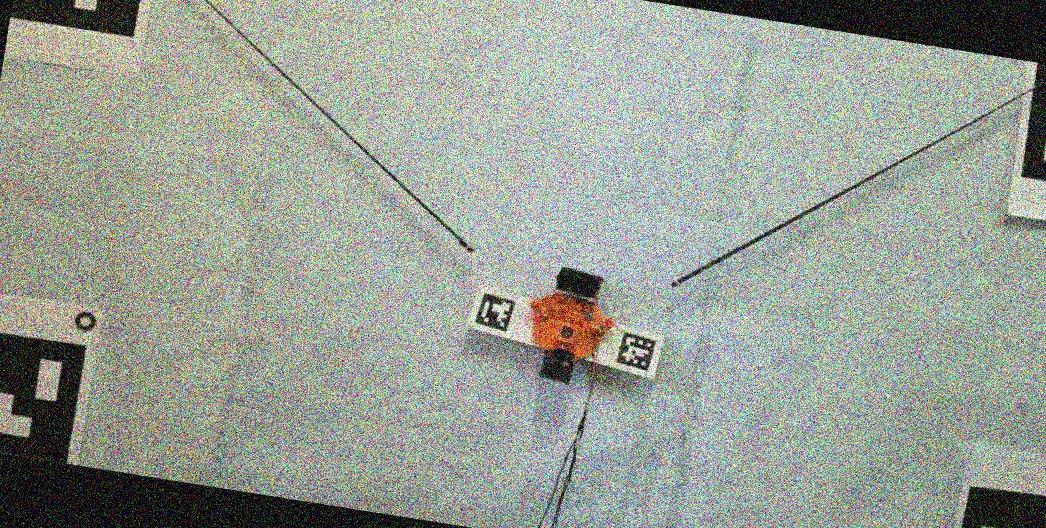robot: (531, 267, 613, 383)
